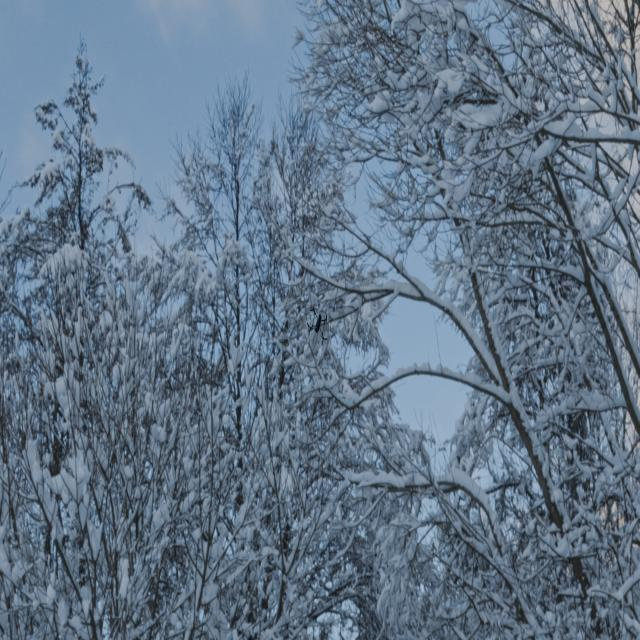drone: (302, 295, 333, 356)
